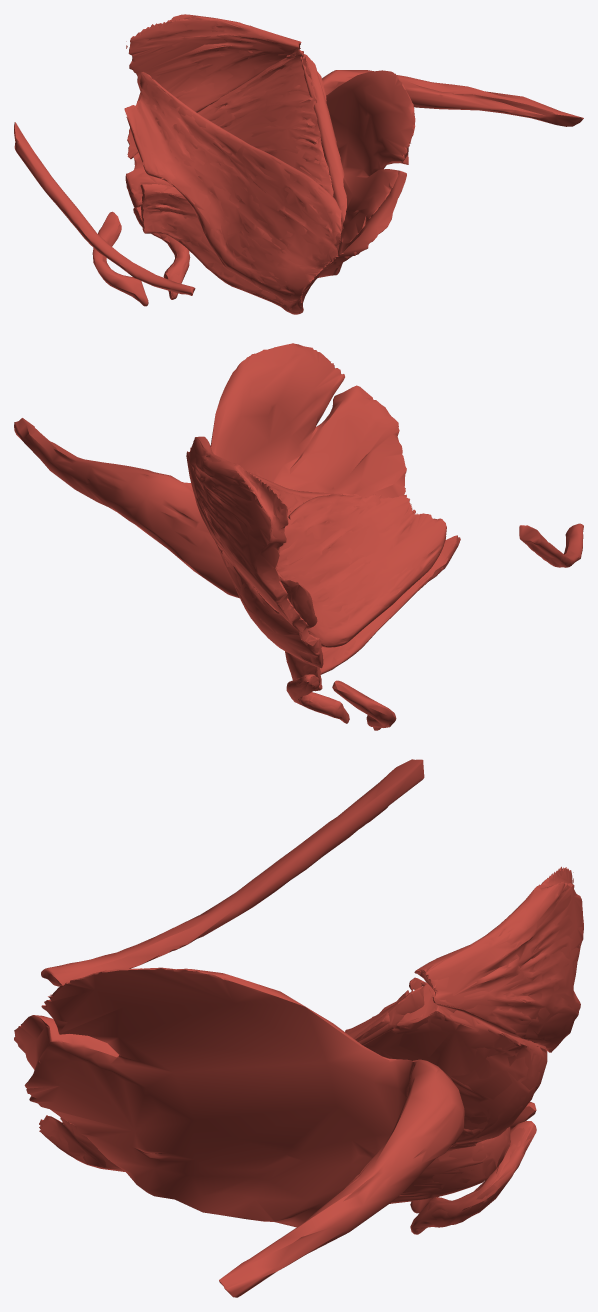
The model's file is pelvicm.glb.
3 renders of one model, top to bottom at view 1: azimuth 30°, elevation 25°; view 2: azimuth 150°, elevation 25°; view 3: azimuth 270°, elevation 25°, orthographic. The views are drawn at different scales.
Parts seen in each view (by area): view 1: left obturator internus, left pubococcygeus (2), left pubococcygeus, left coccygeus, left iliococcygeus, left coccygeus (2), left iliococcygeus (2), tendinous arch of levator ani (3), left puborectalis, left puborectalis (2), external anal sphincter (3), tendinous arch of levator ani (2) (+3 smaller); view 2: left obturator internus, left pubococcygeus (2), left pubococcygeus, left coccygeus, left coccygeus (2), left puborectalis, left iliococcygeus, left iliococcygeus (2), tendinous arch of levator ani (3), left puborectalis (2), external anal sphincter (3), external anal sphincter (2) (+1 smaller); view 3: left obturator internus, left coccygeus, tendinous arch of levator ani (3), left coccygeus (2), left iliococcygeus, left iliococcygeus (2), left puborectalis, left puborectalis (2), external anal sphincter, external anal sphincter (2), tendinous arch of levator ani, tendinous arch of levator ani (2).
Part boxes in pixels (box(x1,y1,x2,y2)): left obturator internus: box(318, 70, 583, 277); left pubococcygeus (2): box(124, 73, 341, 301); left pubococcygeus: box(125, 72, 342, 301); left coccygeus: box(126, 14, 303, 158); left iliococcygeus: box(126, 50, 333, 207); left coccygeus (2): box(127, 14, 303, 159); left iliococcygeus (2): box(125, 50, 333, 207); tendinous arch of levator ani (3): box(14, 122, 195, 295); left puborectalis: box(141, 184, 348, 314); left puborectalis (2): box(140, 184, 347, 314); external anal sphincter (3): box(92, 211, 148, 306); tendinous arch of levator ani (2): box(300, 56, 355, 255); left obturator internus: box(14, 343, 406, 598); left pubococcygeus (2): box(276, 495, 446, 647); left pubococcygeus: box(276, 494, 446, 647); left coccygeus: box(186, 437, 308, 631); left coccygeus (2): box(186, 436, 308, 632); left puborectalis: box(285, 494, 459, 691); left iliococcygeus: box(213, 453, 323, 668); left iliococcygeus (2): box(213, 453, 323, 667); tendinous arch of levator ani (3): box(519, 523, 583, 567); left puborectalis (2): box(285, 488, 460, 690); external anal sphincter (3): box(332, 680, 396, 730); external anal sphincter (2): box(286, 674, 349, 722); left obturator internus: box(14, 967, 464, 1297); left coccygeus: box(414, 866, 583, 1052); tendinous arch of levator ani (3): box(41, 759, 424, 986); left coccygeus (2): box(416, 867, 583, 1046); left iliococcygeus: box(345, 977, 547, 1152); left iliococcygeus (2): box(354, 978, 547, 1153); left puborectalis: box(39, 1115, 510, 1203); left puborectalis (2): box(39, 1117, 509, 1203); external anal sphincter: box(410, 1121, 534, 1234); external anal sphincter (2): box(411, 1121, 536, 1234); tendinous arch of levator ani: box(345, 986, 424, 1045); tendinous arch of levator ani (2): box(347, 988, 423, 1044).
Bounding box in the file's own units: 0.1682 × 0.0751 × 0.0983.
